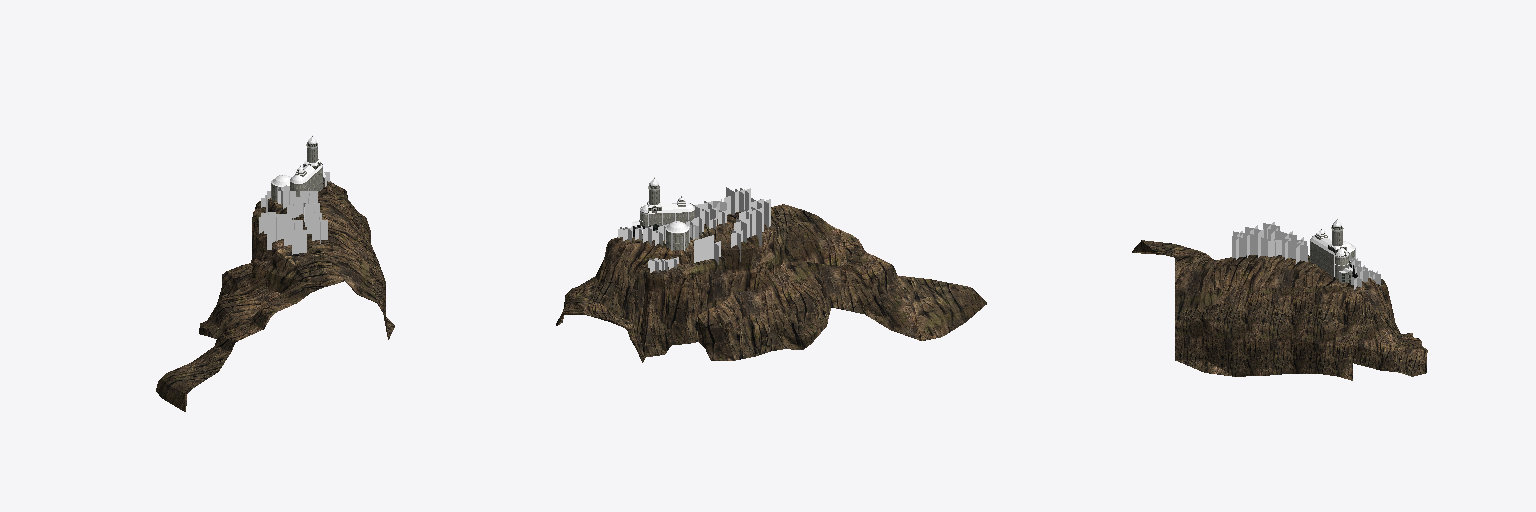
3 views of the same model, side by side, from view 1: azimuth 30°, elevation 25°; view 2: azimuth 150°, elevation 25°; view 3: azimuth 270°, elevation 25° (orthographic).
Visible parts, largest first — view 1: mesh5, mesh2, mesh3, mesh1, mesh7; view 2: mesh5, mesh2, mesh3, mesh7, mesh0, mesh12, mesh1; view 3: mesh5, mesh2.
Boxes of the visible parts, x1,y1,x2,y2 form: mesh5: [156, 181, 394, 411]; mesh2: [261, 172, 329, 249]; mesh3: [259, 177, 314, 254]; mesh1: [268, 185, 321, 245]; mesh7: [273, 135, 324, 185]; mesh5: [556, 204, 986, 362]; mesh2: [618, 188, 763, 272]; mesh3: [635, 199, 770, 271]; mesh7: [632, 177, 694, 233]; mesh0: [652, 187, 736, 270]; mesh12: [649, 210, 694, 249]; mesh1: [686, 189, 763, 238]; mesh5: [1132, 240, 1427, 380]; mesh2: [1232, 222, 1380, 289].
Size of the model in its own units: 454 by 236 by 400.
Materials: 19 (12 with a texture image).